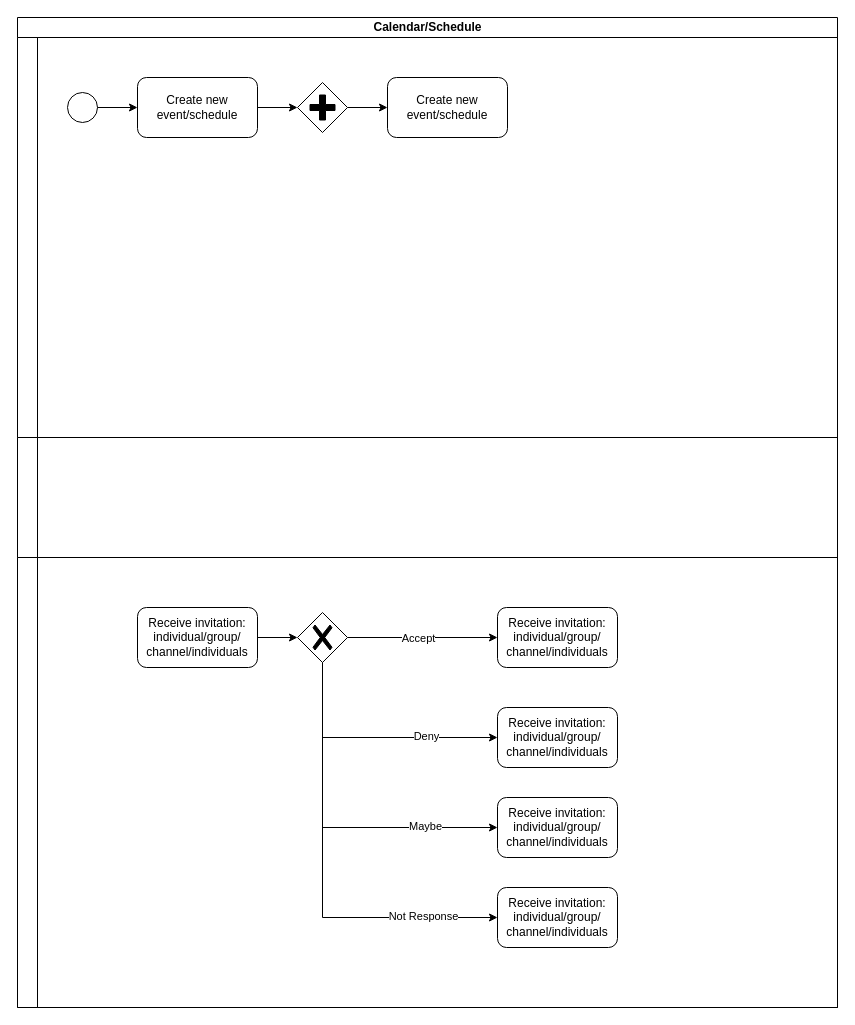
Some shapes in this 855 by 1025 pixel diagram are drawn without their labels. Each missing label, with the box of its shape:
Invitees: (16, 556, 838, 1008)
Organizer: (16, 36, 838, 438)
System: (16, 436, 838, 558)
